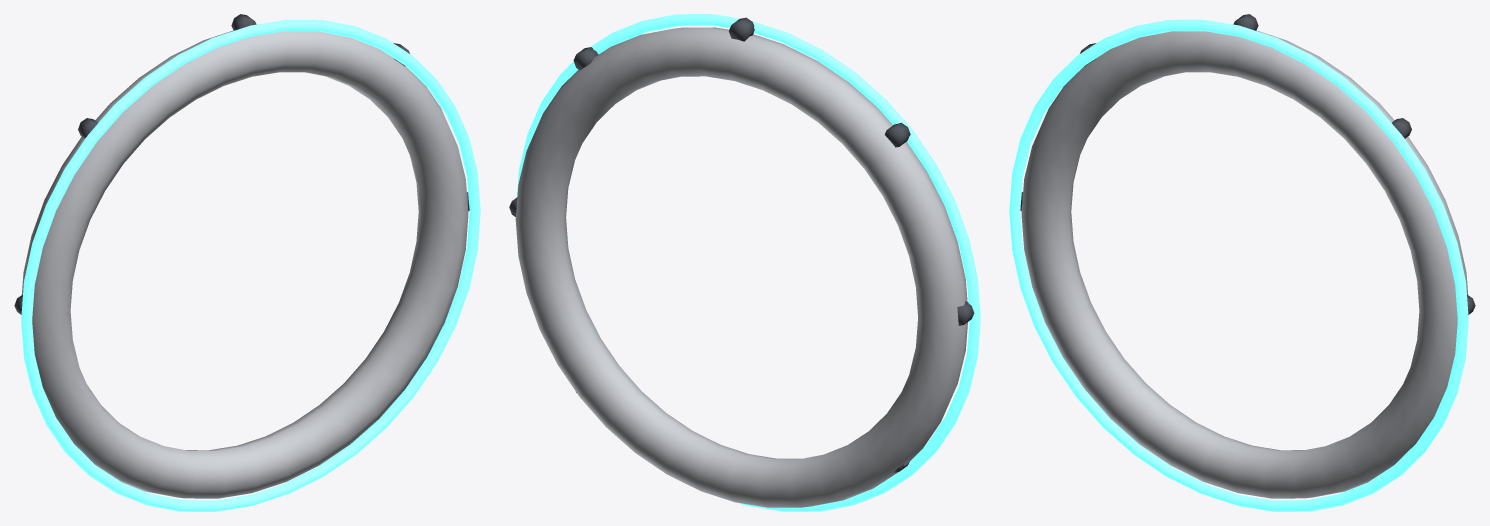
The model's file is window_surround_porthole_ring.glb.
3 views of the same model, side by side, from view 1: azimuth 30°, elevation 25°; view 2: azimuth 150°, elevation 25°; view 3: azimuth 330°, elevation 25° (orthographic).
Visible parts, largest first — view 1: GD_window_surround_porthole_ring__m0, GD_window_surround_porthole_ring__m1, GD_window_surround_porthole_ring__m2; view 2: GD_window_surround_porthole_ring__m0, GD_window_surround_porthole_ring__m1, GD_window_surround_porthole_ring__m2; view 3: GD_window_surround_porthole_ring__m0, GD_window_surround_porthole_ring__m1, GD_window_surround_porthole_ring__m2.
Part boxes in pixels (bbox=[...]): GD_window_surround_porthole_ring__m0: bbox=[21, 30, 468, 498]; GD_window_surround_porthole_ring__m1: bbox=[21, 19, 480, 511]; GD_window_surround_porthole_ring__m2: bbox=[14, 14, 469, 463]; GD_window_surround_porthole_ring__m0: bbox=[515, 27, 967, 507]; GD_window_surround_porthole_ring__m1: bbox=[516, 14, 980, 511]; GD_window_surround_porthole_ring__m2: bbox=[509, 17, 974, 472]; GD_window_surround_porthole_ring__m0: bbox=[1021, 30, 1468, 498]; GD_window_surround_porthole_ring__m1: bbox=[1009, 19, 1468, 511]; GD_window_surround_porthole_ring__m2: bbox=[1020, 14, 1475, 463].
Size of the model in its own units: 1.27 by 1.28 by 0.1141.
